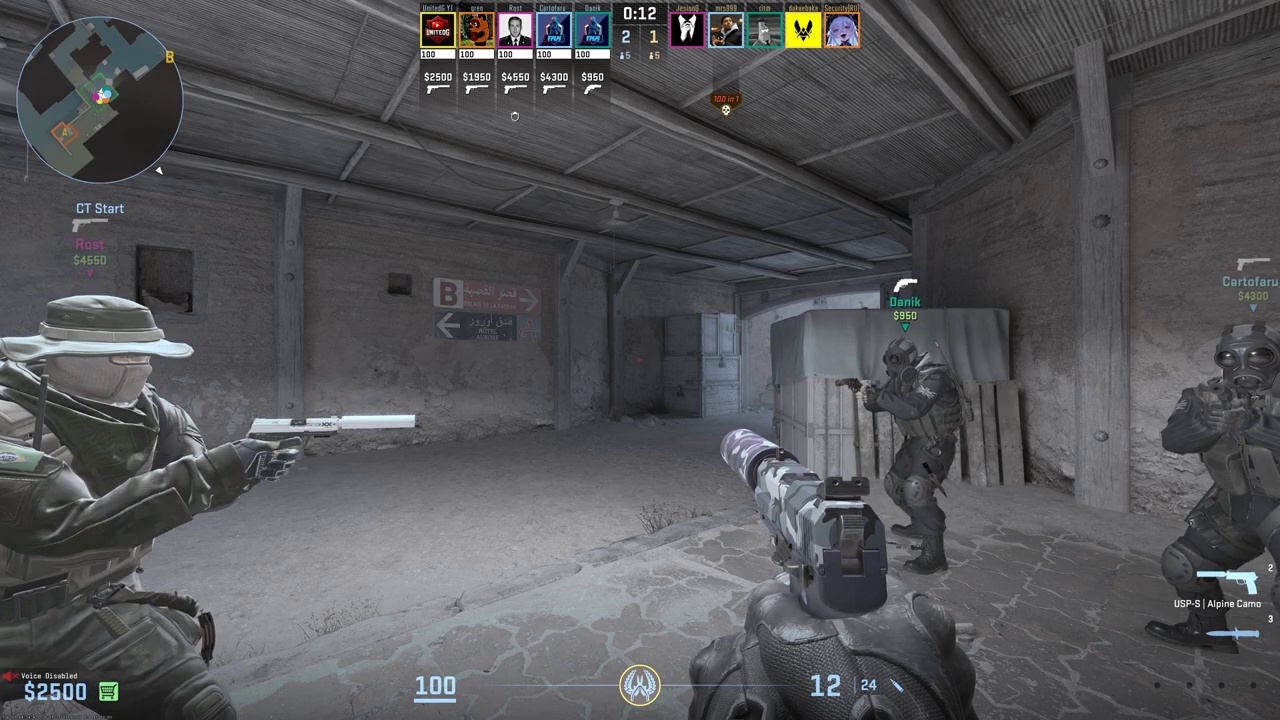CT: (0, 294, 242, 720), (1148, 322, 1274, 643), (875, 339, 962, 570)
